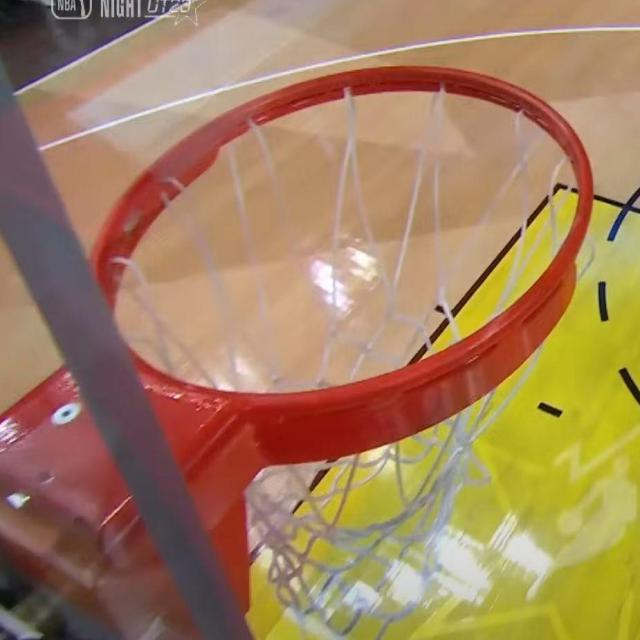hoop: (118, 122, 579, 547)
